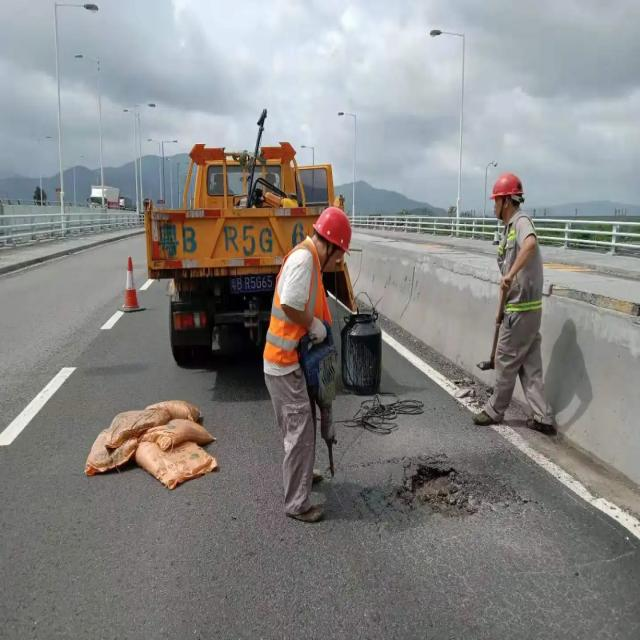Pothole: (396, 464, 512, 526)
